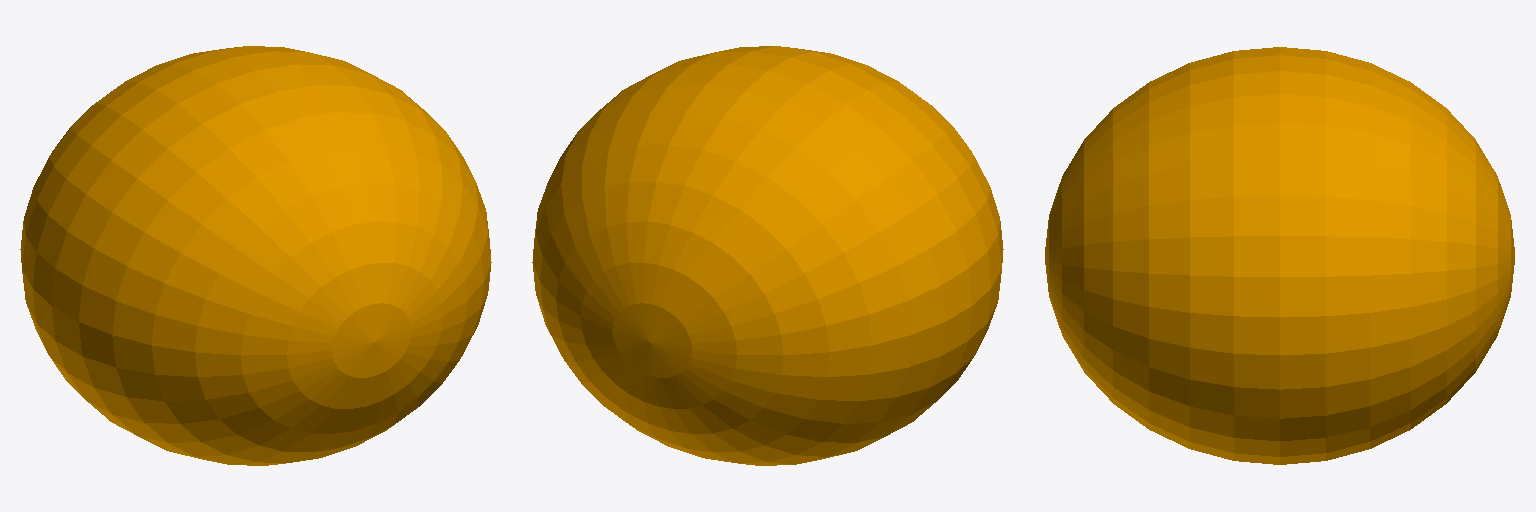
URDF robot description (object):
<?xml version="1.0"?>
<robot name="object">
  <link name="object">
    <visual>
      <origin xyz="0 0 0"/>
      <geometry>
        <mesh filename="meshes/final/final_obj7_ball_flatter.obj" scale=".065 .065 .065"/>
      </geometry>
    </visual>
    <collision>
      <origin xyz="0 0 0"/>
      <geometry>
        <mesh filename="meshes/final/final_obj7_ball_flatter.obj" scale=".065 .065 .065"/>
<!--          <mesh filename="meshes/custom/obj0_ball.obj" scale=".05 .05 .05"/>-->
      </geometry>
    </collision>
    <inertial>
      <density value="1000.0"/>
    </inertial>
  </link>
</robot>

--- What the picture shows (computed from the rendered views, not written in the file) ---
The picture shows the robot from 3 angles, left to right: view 1: azimuth 30°, elevation 25°; view 2: azimuth 150°, elevation 25°; view 3: azimuth 270°, elevation 25°; orthographic projection.
Model object with 1 links and 0 joints (none), rooted at object, posed every joint at zero.
Links seen in each view (by area): view 1: object; view 2: object; view 3: object.
Boxes of the visible links, x1,y1,x2,y2 form: object: (20, 46, 491, 465); object: (532, 46, 1003, 465); object: (1045, 47, 1514, 464).
Size in the robot's own frame: 0.078 by 0.078 by 0.0676 metres.
Meshes: 1 distinct files referenced, 1 mesh visuals loaded (1 OBJ).
